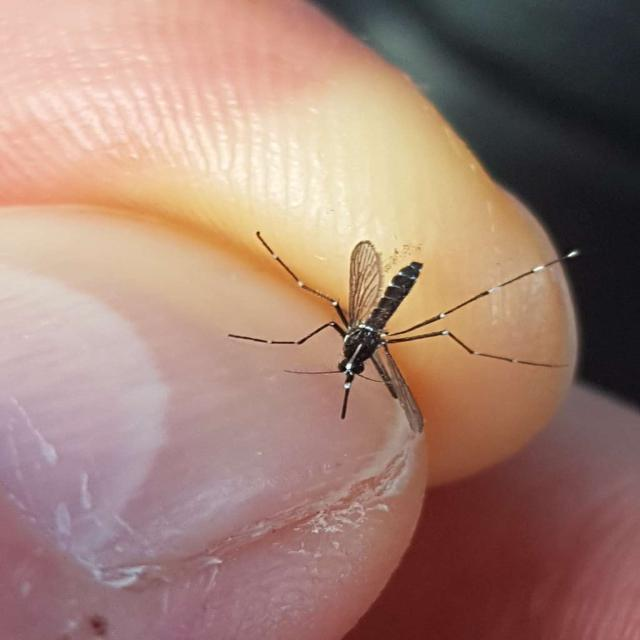albopictus: (205, 220, 560, 435)
